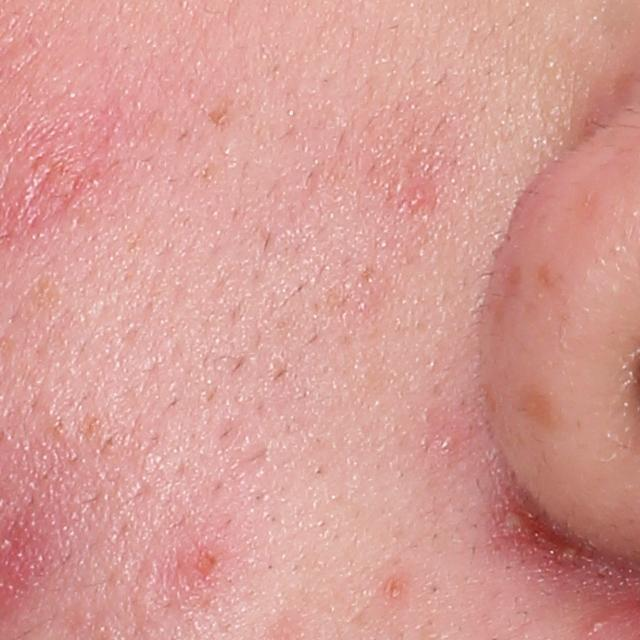pustule: (500, 504, 525, 532), (560, 541, 580, 564)
